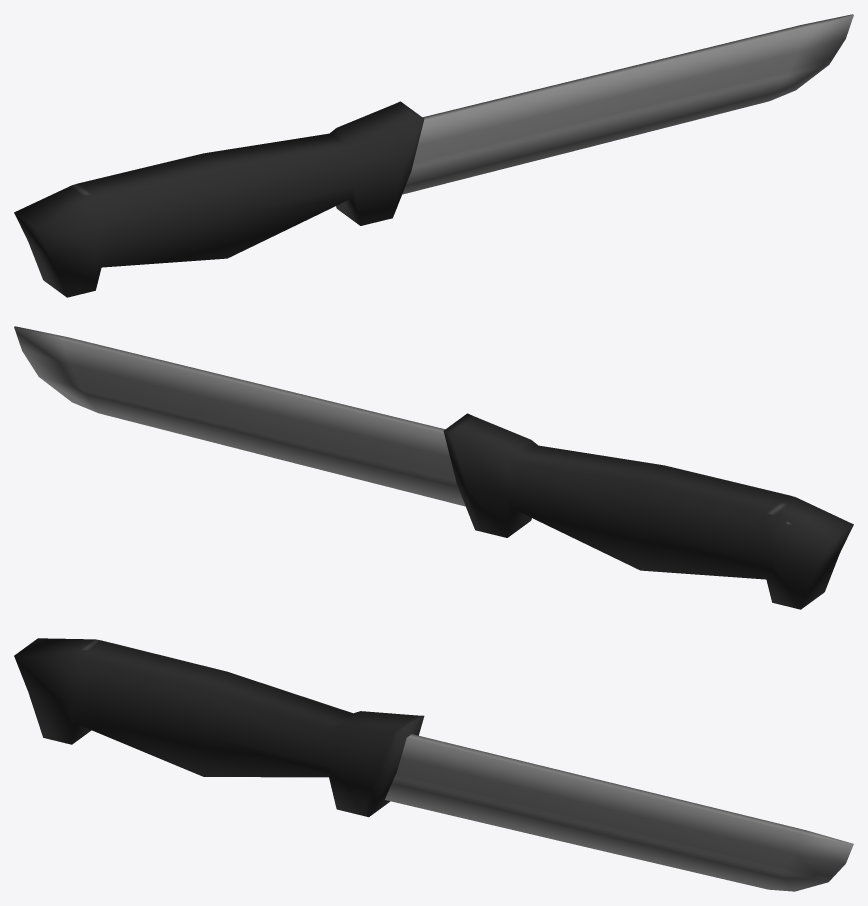
File: Cuchillo_Fruta.obj
The picture shows the model from 3 angles, top to bottom: view 1: azimuth 30°, elevation 25°; view 2: azimuth 150°, elevation 25°; view 3: azimuth 330°, elevation 25°; orthographic projection.
Visible parts, largest first — view 1: Cuchillo_Fruta_Cube.014; view 2: Cuchillo_Fruta_Cube.014; view 3: Cuchillo_Fruta_Cube.014.
Part boxes in pixels (bbox=[...]): Cuchillo_Fruta_Cube.014: bbox=[14, 14, 853, 297]; Cuchillo_Fruta_Cube.014: bbox=[14, 326, 853, 609]; Cuchillo_Fruta_Cube.014: bbox=[14, 638, 853, 891].
Size of the model in its own units: 1.37 by 0.1452 by 0.0686.
